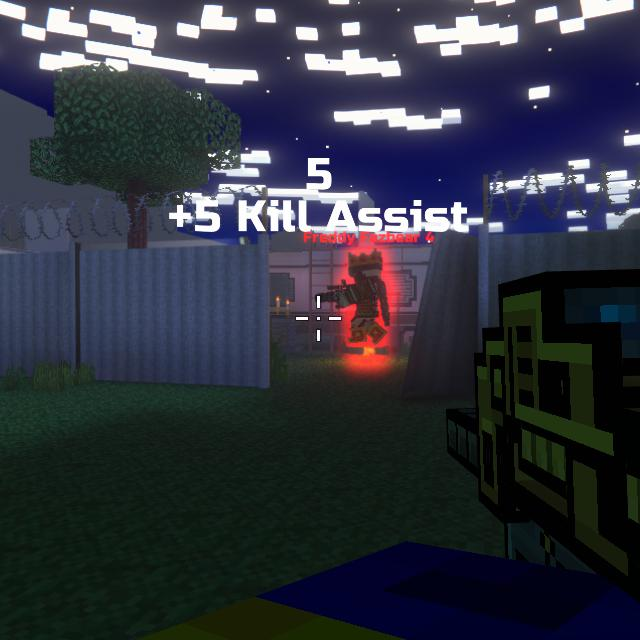Enemy: (339, 253, 388, 348)
